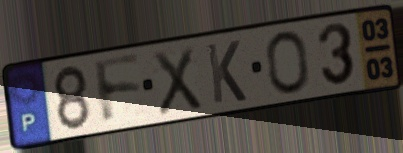3: (316, 21, 356, 89)
8: (50, 63, 94, 133)
F: (91, 53, 145, 129)
K: (204, 38, 249, 106)
O: (264, 29, 312, 96)
X: (150, 44, 205, 119)
